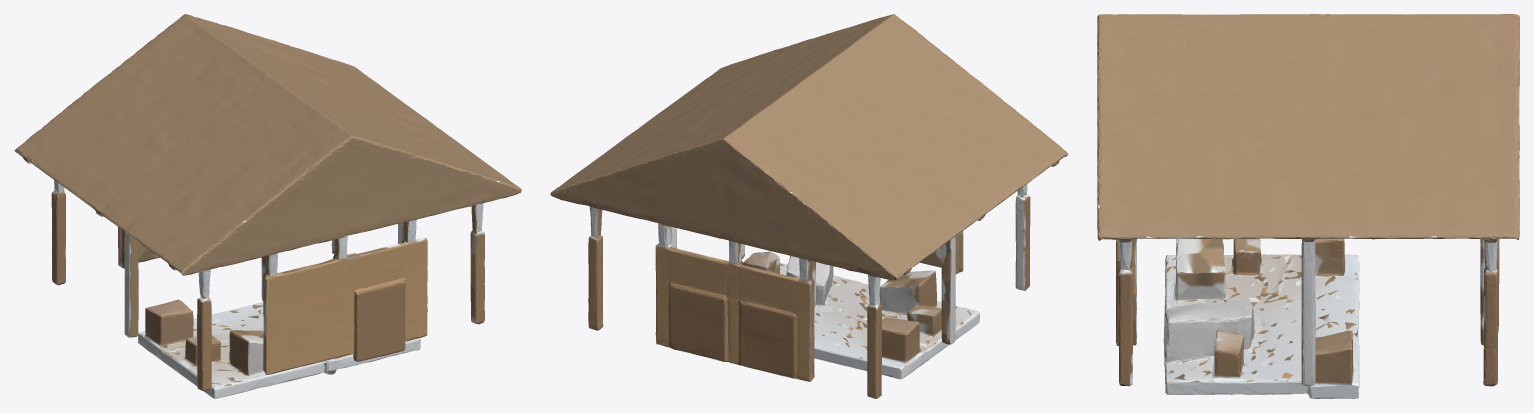
File: paint-batch-warehouse.glb
3 renders of one model, left to right at view 1: azimuth 30°, elevation 25°; view 2: azimuth 150°, elevation 25°; view 3: azimuth 270°, elevation 25°, orthographic. The views are drawn at different scales.
Parts seen in each view (by area): view 1: geometry_0; view 2: geometry_0; view 3: geometry_0.
Part boxes in pixels (left/top/right/bottom): geometry_0: left=14, top=14, right=521, bottom=398; geometry_0: left=550, top=14, right=1068, bottom=398; geometry_0: left=1097, top=14, right=1519, bottom=398.
Size of the model in its own units: 2 by 1.6 by 1.71.
1 material, 1 textured.
